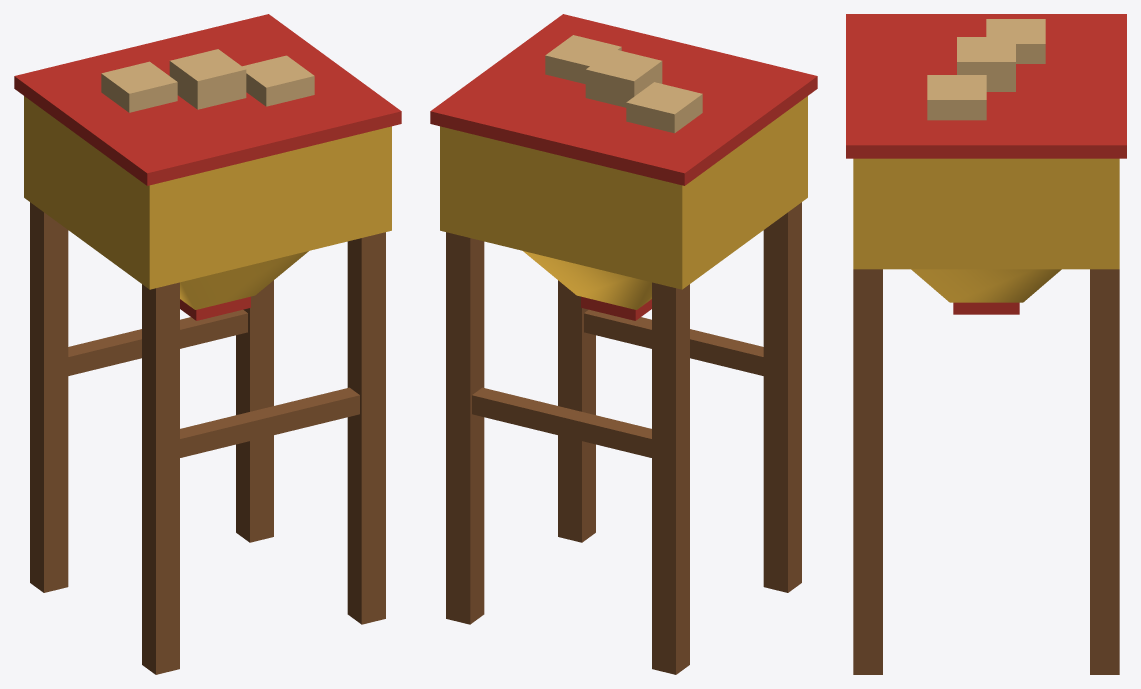
Rendered from cargo-loader.glb.
3 views of the same model, side by side, from view 1: azimuth 30°, elevation 25°; view 2: azimuth 150°, elevation 25°; view 3: azimuth 270°, elevation 25° (orthographic). The views are drawn at different scales.
Visible parts, largest first — view 1: darkWood, yellow, red, wood; view 2: darkWood, yellow, red, wood; view 3: red, yellow, darkWood, wood.
Boxes of the visible parts, bbox=[...] form: darkWood: bbox=[30, 202, 385, 674]; yellow: bbox=[24, 96, 391, 309]; red: bbox=[14, 14, 401, 320]; wood: bbox=[101, 49, 314, 112]; darkWood: bbox=[446, 202, 801, 674]; yellow: bbox=[440, 96, 807, 309]; red: bbox=[430, 14, 817, 320]; wood: bbox=[545, 35, 702, 133]; red: bbox=[846, 14, 1126, 314]; yellow: bbox=[853, 158, 1119, 302]; darkWood: bbox=[853, 269, 1119, 674]; wood: bbox=[927, 19, 1045, 120].
Size of the model in its own units: 84 by 169 by 76.
